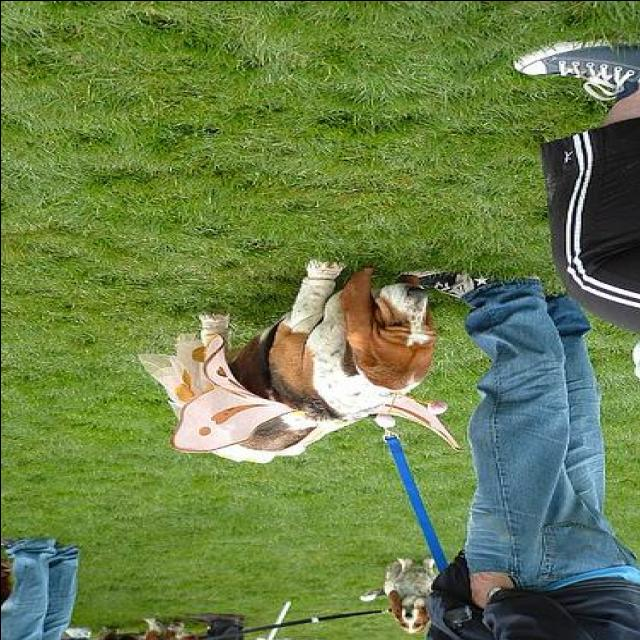basset: (197, 260, 440, 454)
